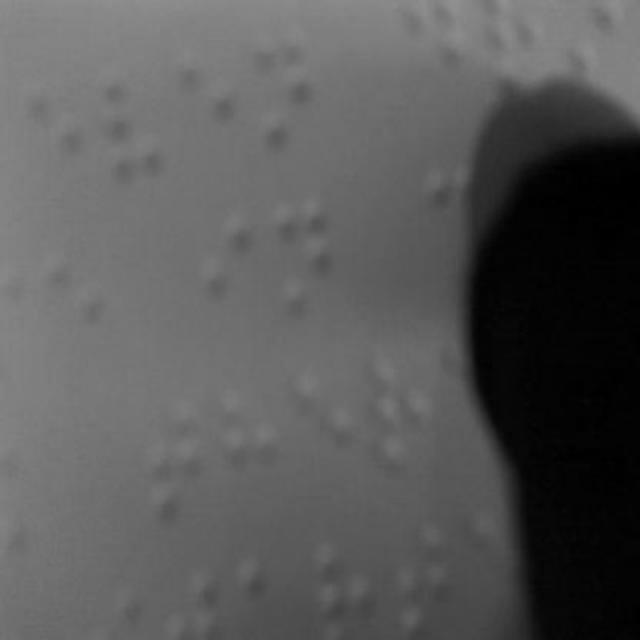braiile: (212, 384, 284, 522), (271, 183, 337, 333), (252, 18, 318, 164), (186, 204, 254, 344), (292, 364, 361, 500), (366, 348, 436, 482), (140, 401, 206, 534), (176, 48, 238, 182), (94, 68, 166, 182), (389, 516, 455, 640), (26, 74, 88, 194)
